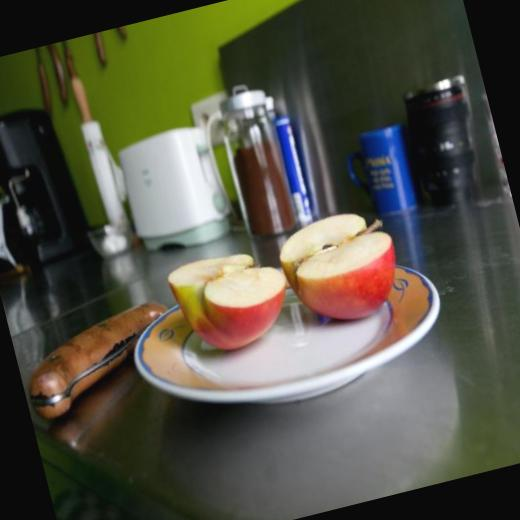Apple: (280, 205, 412, 336), (162, 238, 300, 360)
